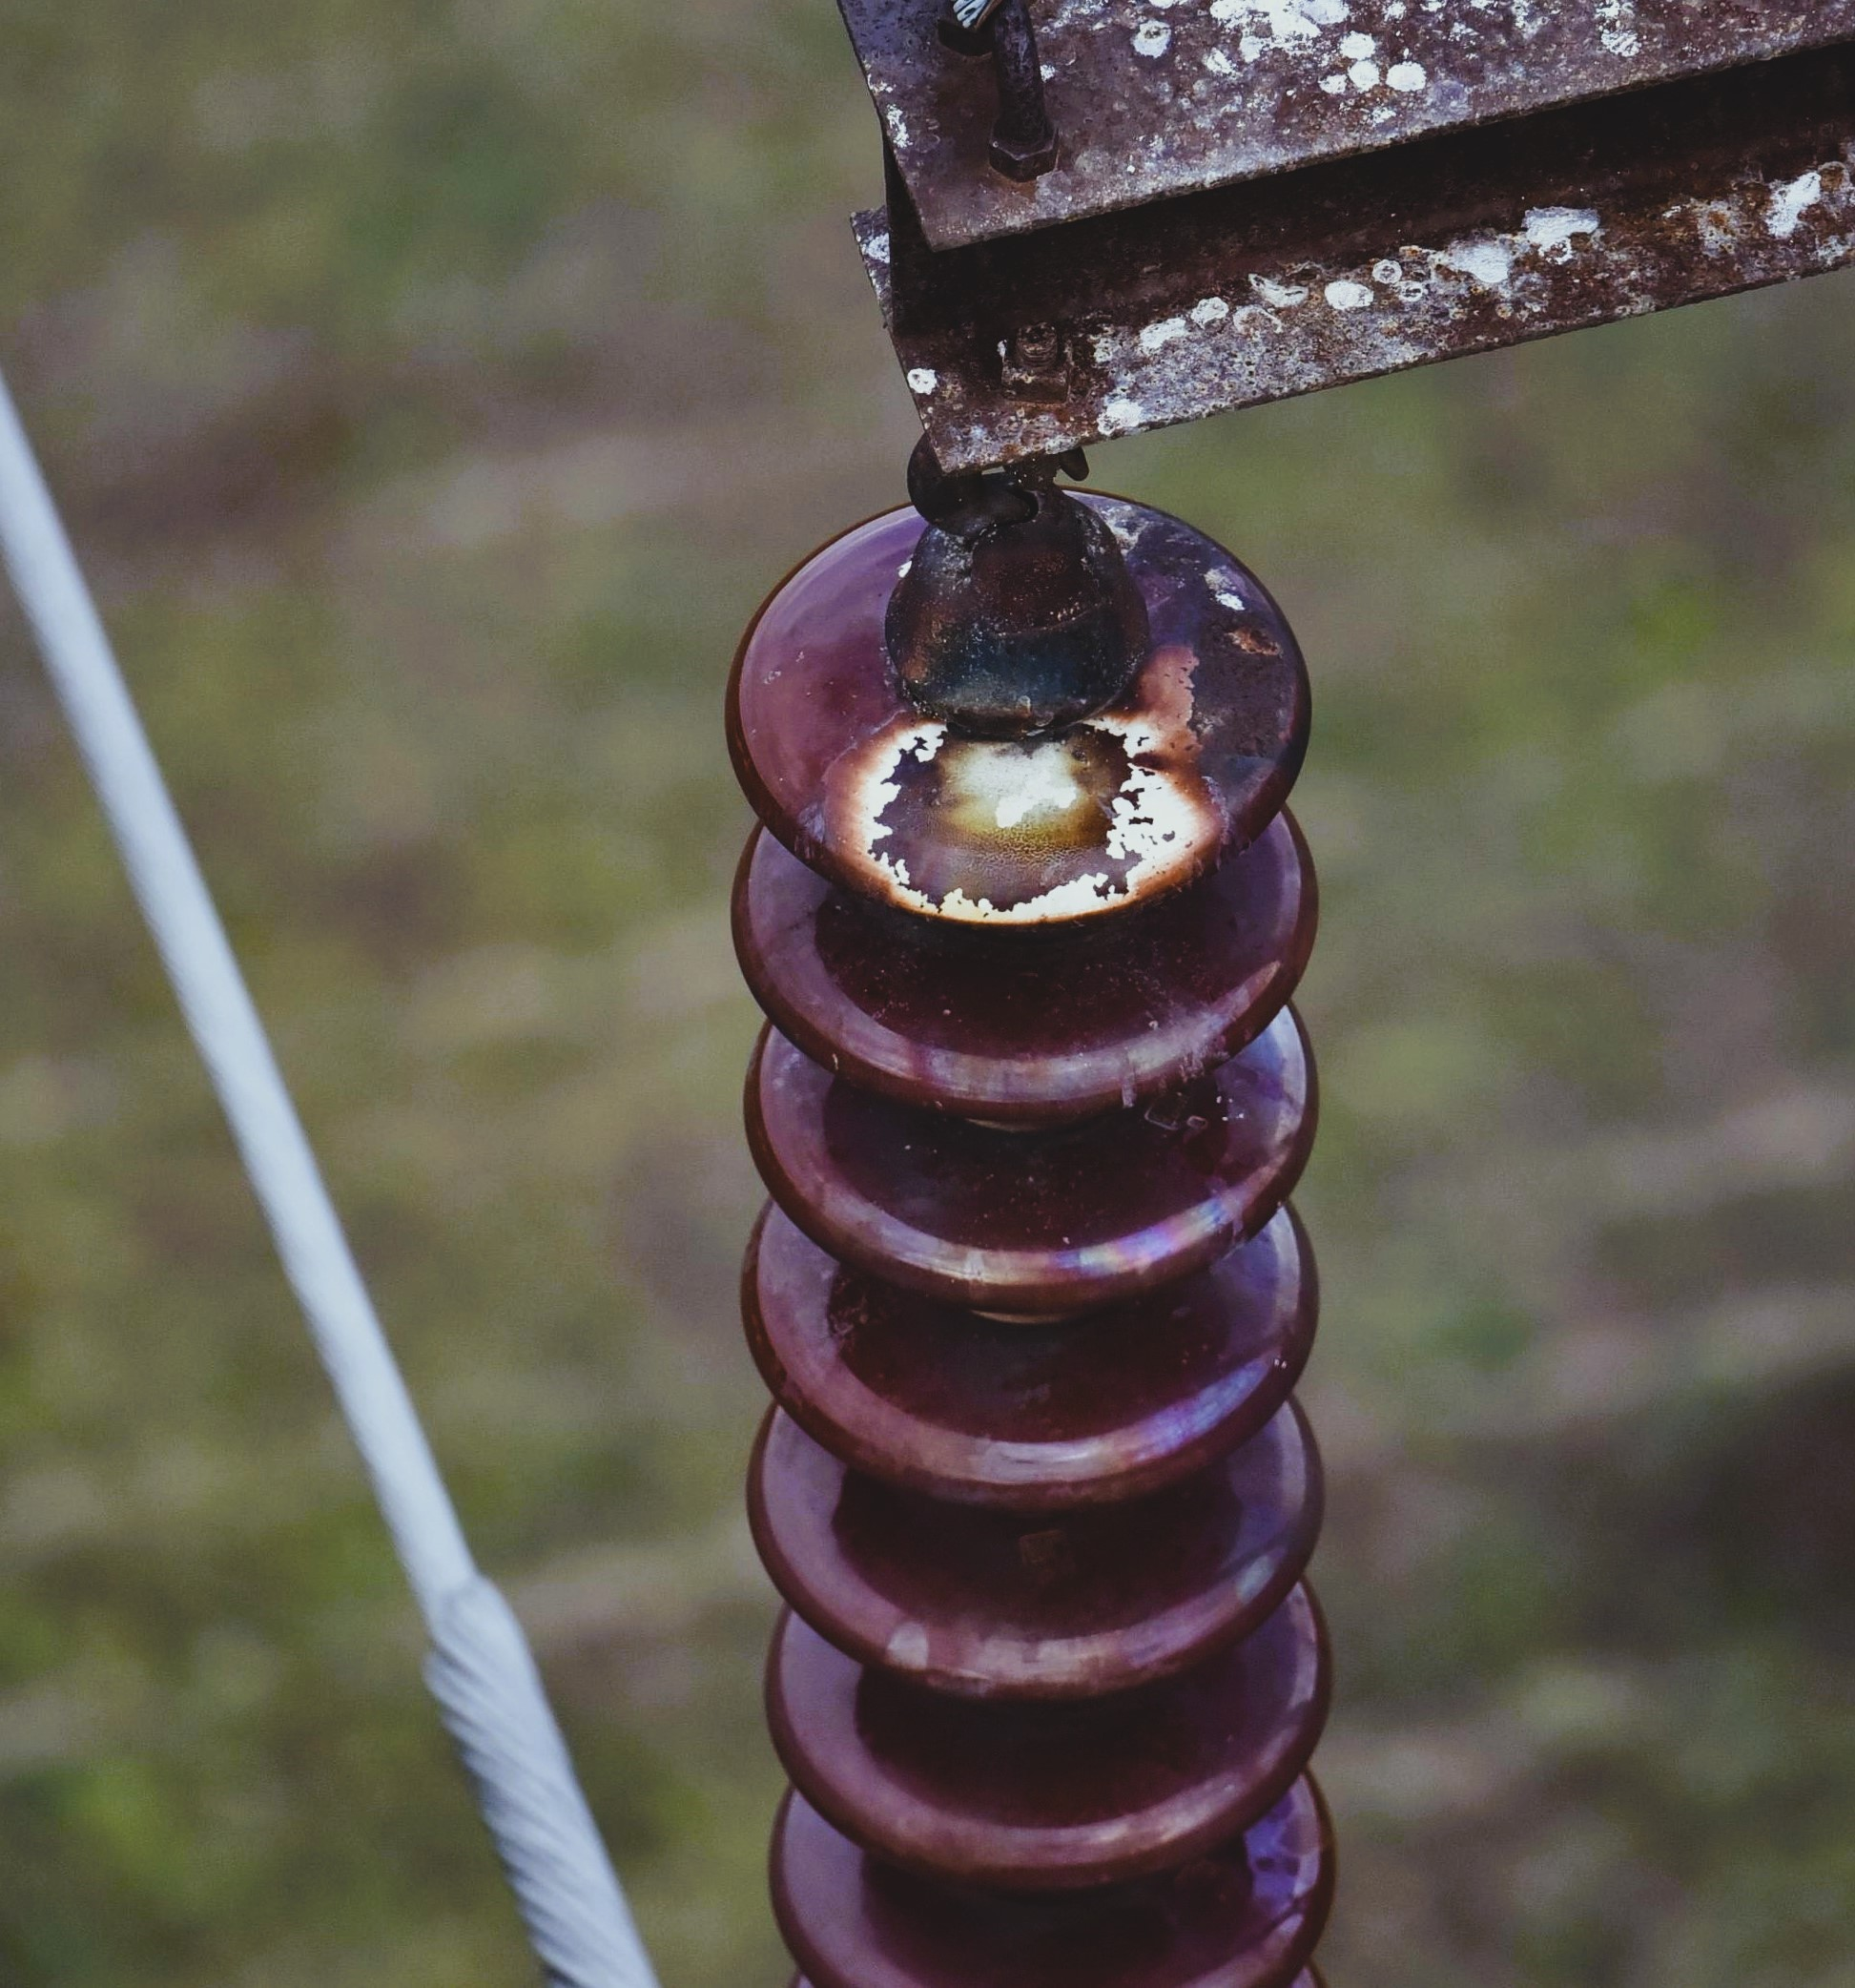Insulator flashover: (713, 471, 1322, 943)
